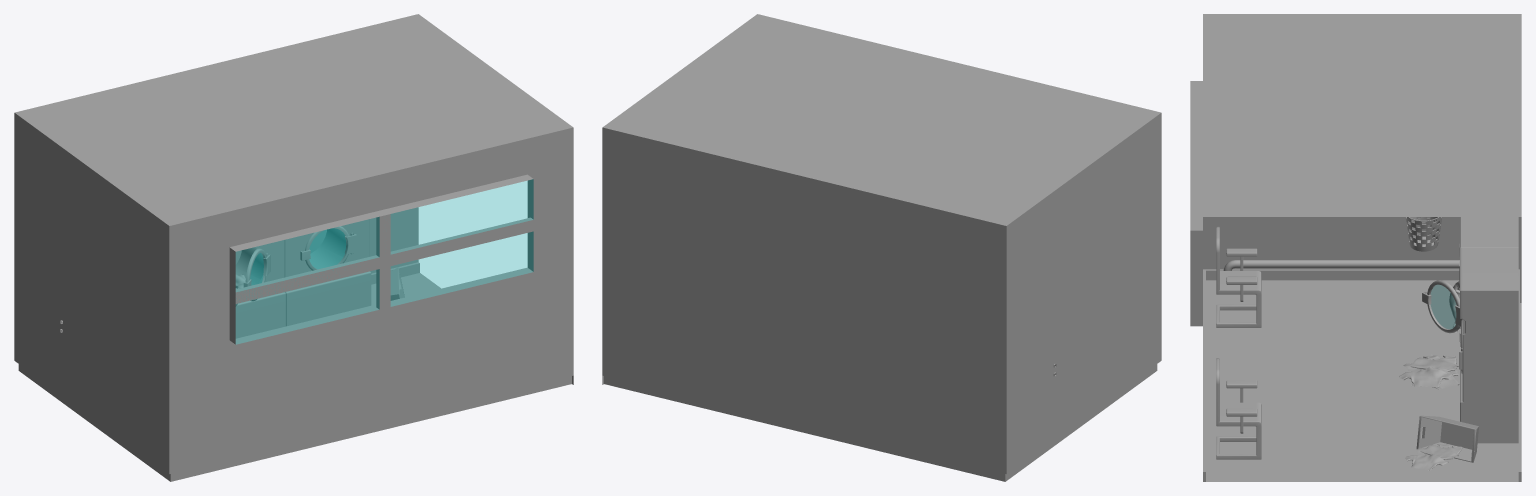
Rendered from Laundry_Scene_Prova.fbx.
The picture shows the model from 3 angles, left to right: view 1: azimuth 30°, elevation 25°; view 2: azimuth 150°, elevation 25°; view 3: azimuth 270°, elevation 25°; orthographic projection. The views are drawn at different scales.
Parts seen in each view (by area): view 1: Walls, Glass, Props; view 2: Walls; view 3: Walls, Props, T_Shirt2, Glass, T_Shirt5, T_Shirt4, T_Shirt1.
Boxes of the visible parts, left/top/right/bottom form: Walls: left=14, top=14, right=573, bottom=481; Glass: left=236, top=179, right=533, bottom=344; Props: left=60, top=219, right=404, bottom=338; Walls: left=602, top=14, right=1161, bottom=481; Walls: left=1190, top=14, right=1521, bottom=481; Props: left=1216, top=217, right=1518, bottom=462; T_Shirt2: left=1398, top=355, right=1458, bottom=387; Glass: left=1431, top=285, right=1455, bottom=328; T_Shirt5: left=1405, top=454, right=1448, bottom=470; T_Shirt4: left=1420, top=444, right=1462, bottom=459; T_Shirt1: left=1403, top=281, right=1459, bottom=371.
Size of the model in its own units: 15.51 by 9.42 by 10.68.
